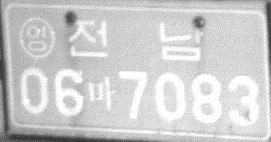0: (154, 70, 187, 122), (19, 65, 49, 114)
3: (226, 74, 260, 128)
6: (53, 68, 85, 118)
7: (117, 70, 149, 117)
8: (190, 73, 224, 124)
마: (88, 77, 116, 109)
영: (18, 16, 55, 58)
전남_D: (67, 17, 203, 61)
